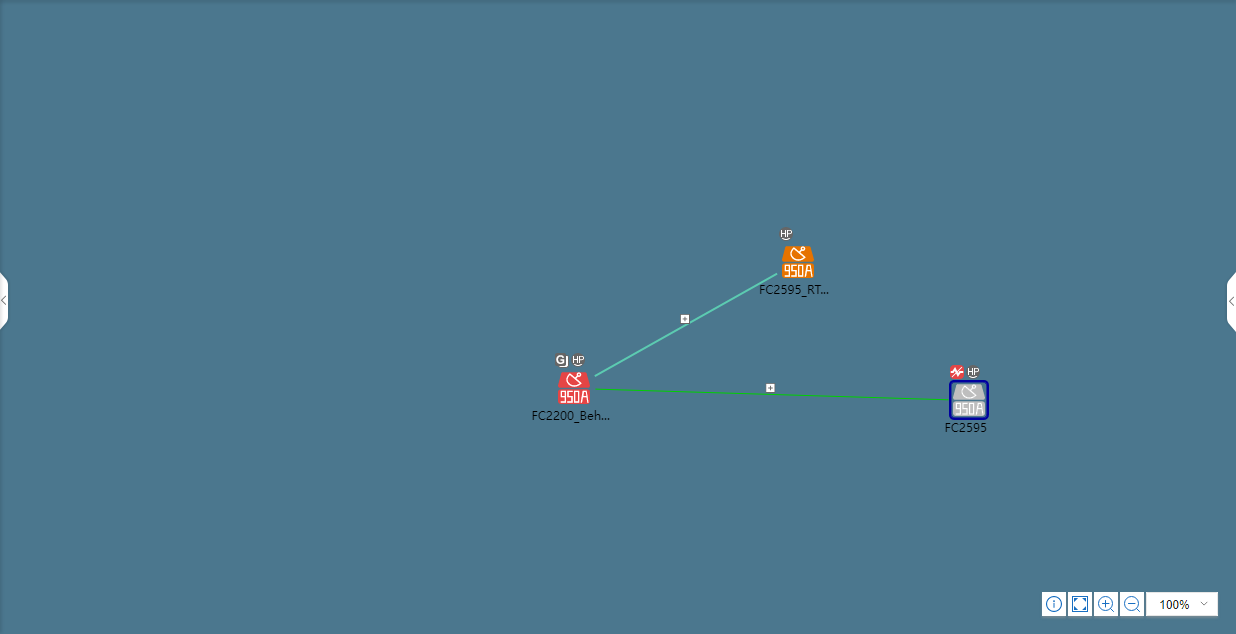Link_Blue: (591, 275, 769, 377)
Link_Green: (771, 390, 952, 404)
RTN_Gray: (946, 383, 991, 417)
RTN_Orange: (784, 244, 813, 280)
RTN_Red: (560, 375, 597, 404)
